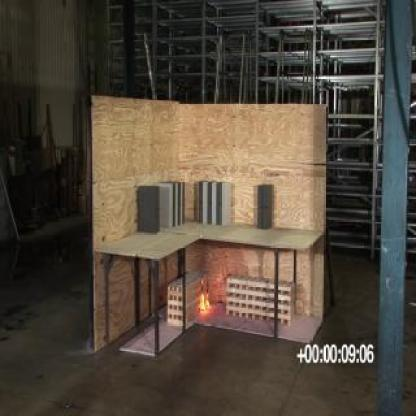Fire: (198, 274, 213, 314)
